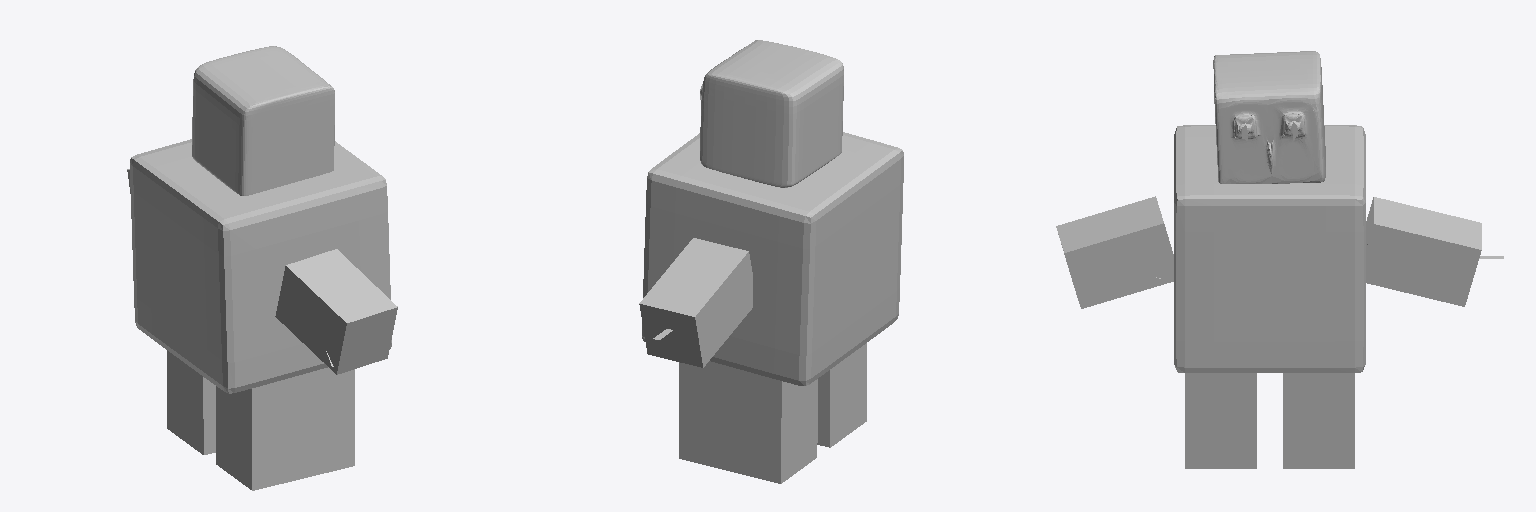
3 renders of one model, left to right at view 1: azimuth 30°, elevation 25°; view 2: azimuth 150°, elevation 25°; view 3: azimuth 270°, elevation 25°, orthographic.
Parts seen in each view (by area): view 1: Cube_Cube.001, Cube.001_Cube.002, CollisionLL_Cube.003, Cube.005_Cube.007, Cube.003_Cube.004; view 2: Cube_Cube.001, Cube.001_Cube.002, Cube.003_Cube.004, Cube.004_Cube.005, CollisionLL_Cube.003; view 3: Cube_Cube.001, Cube.001_Cube.002, Cube.004_Cube.005, Cube.005_Cube.007, CollisionLL_Cube.003, Cube.003_Cube.004.
Part boxes in pixels (x1,y1,x2,y2): Cube_Cube.001: (130, 139, 391, 393); Cube.001_Cube.002: (192, 46, 334, 195); CollisionLL_Cube.003: (216, 367, 354, 490); Cube.005_Cube.007: (275, 249, 397, 374); Cube.003_Cube.004: (167, 350, 215, 454); Cube_Cube.001: (642, 132, 903, 385); Cube.001_Cube.002: (700, 40, 843, 187); Cube.003_Cube.004: (679, 361, 817, 483); Cube.004_Cube.005: (639, 238, 752, 367); CollisionLL_Cube.003: (817, 343, 866, 447); Cube_Cube.001: (1174, 125, 1365, 372); Cube.001_Cube.002: (1213, 51, 1325, 183); Cube.004_Cube.005: (1366, 197, 1481, 306); Cube.005_Cube.007: (1056, 196, 1173, 308); CollisionLL_Cube.003: (1185, 373, 1256, 468); Cube.003_Cube.004: (1283, 373, 1354, 468).
Size of the model in its own units: 1.5 by 3.14 by 3.39.